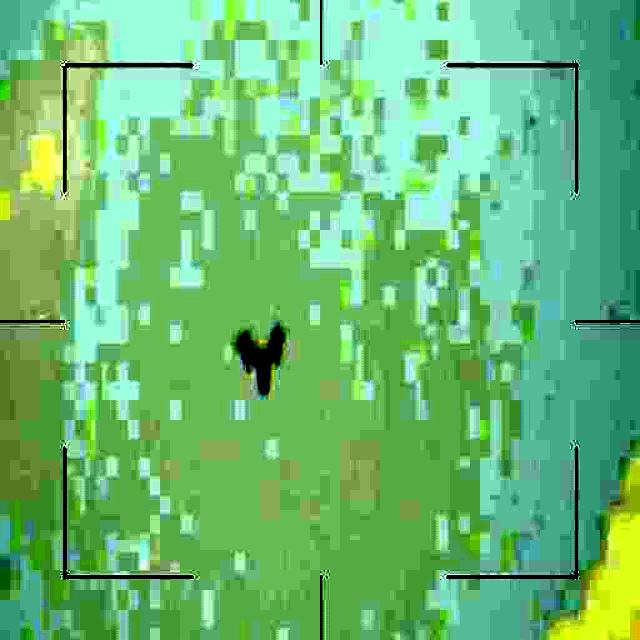bird: (235, 319, 286, 391)
